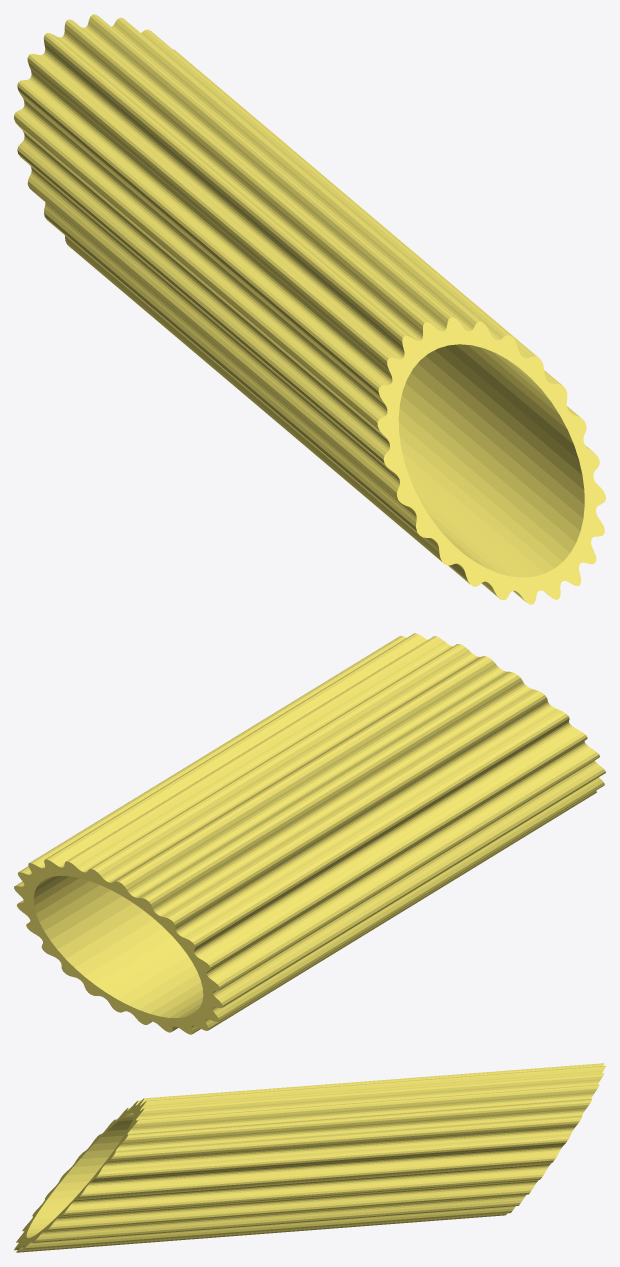
Rendered from Penne.001.gltf.
The picture shows the model from 3 angles, top to bottom: view 1: azimuth 30°, elevation 25°; view 2: azimuth 150°, elevation 25°; view 3: azimuth 270°, elevation 25°; orthographic projection. The views are drawn at different scales.
Parts seen in each view (by area): view 1: Penne.001; view 2: Penne.001; view 3: Penne.001.
Boxes of the visible parts, x1,y1,x2,y2 form: Penne.001: (14, 14, 605, 604); Penne.001: (14, 633, 605, 1034); Penne.001: (14, 1063, 605, 1252).
Size of the model in its own units: 0.8962 by 1.13 by 3.52.
